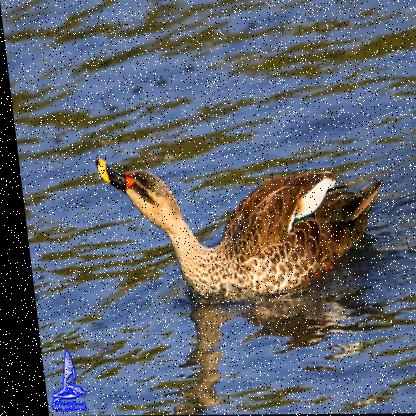Burung: (91, 155, 390, 300)
